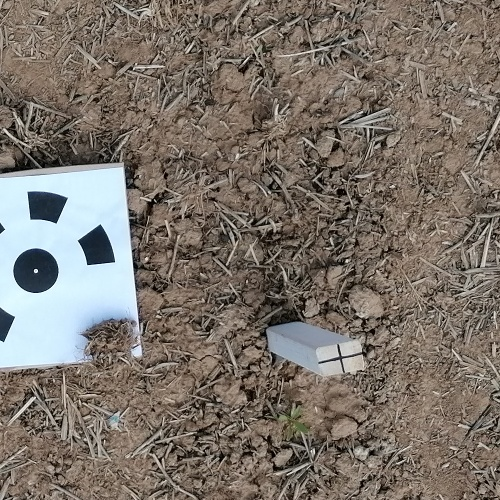beet: (279, 403, 309, 441)
